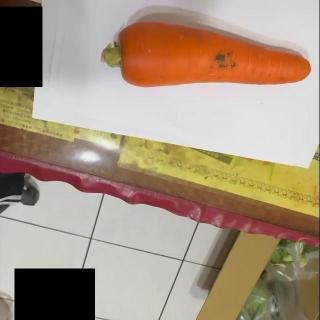carrot: (99, 21, 314, 89)
